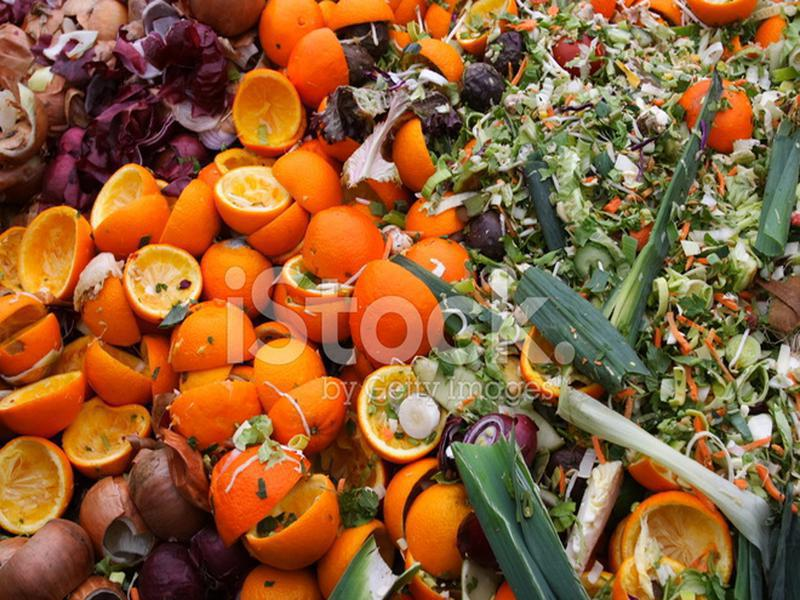vegetation: (3, 2, 800, 597)
